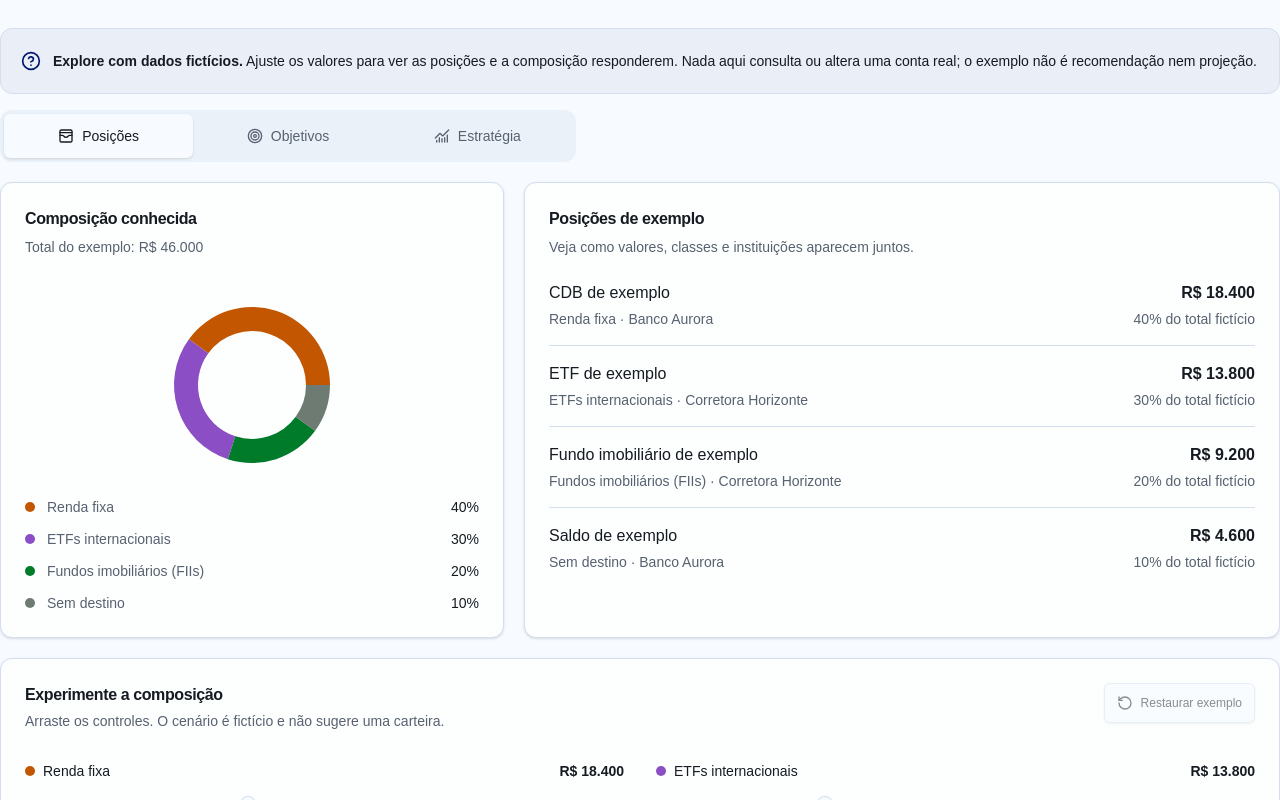
PortfolioDemo › switches to the objectives view and shows the illustrative progress
Click the tab "Objetivos".
click(288, 136)  # box left=193, top=114, right=383, bottom=158
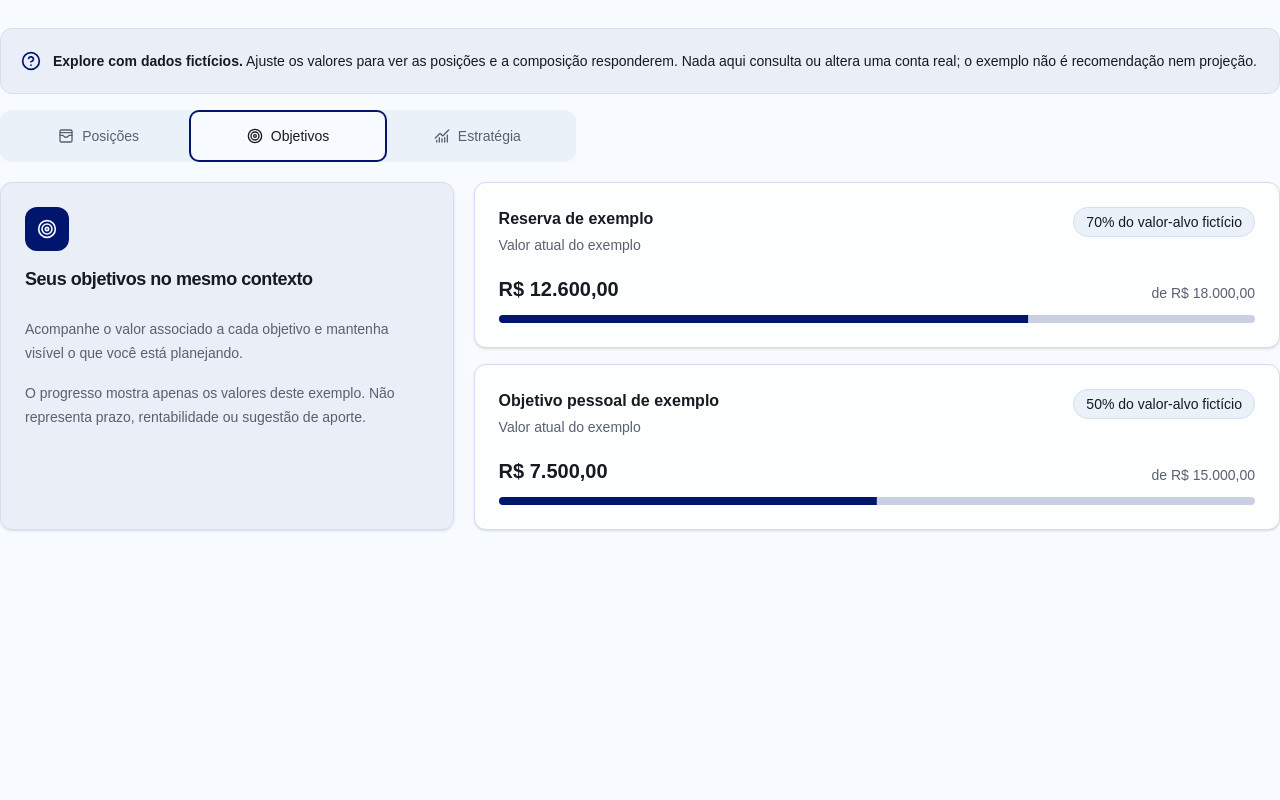
Expected: the heading "Reserva de exemplo" is shown, left=499, top=207, right=653, bottom=231
Expected: the text "70% do valor-alvo fictício" is shown, left=1073, top=207, right=1255, bottom=237
Expected: the text "Não representa prazo, rentabilidade" is shown, left=25, top=385, right=395, bottom=425
